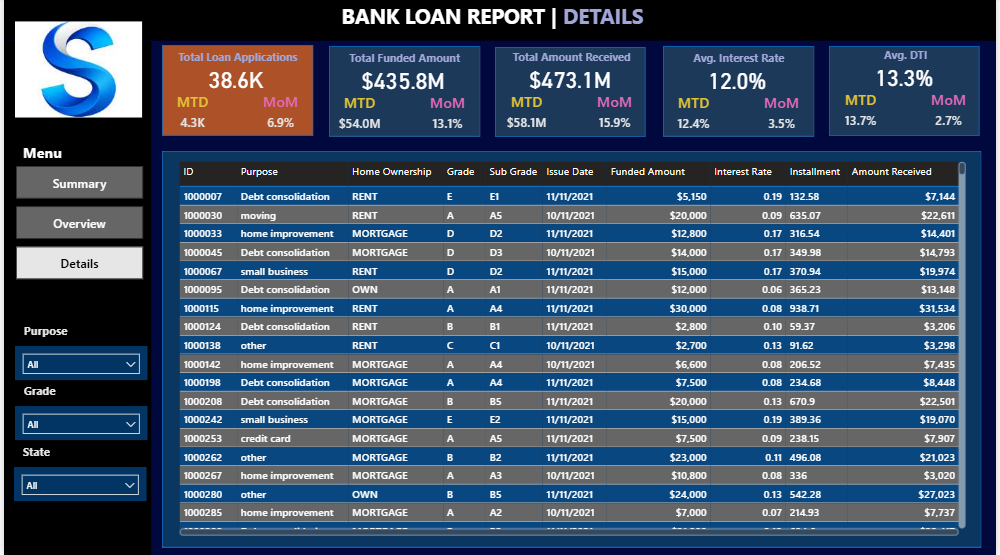

Layout of this report page (visuals, bound fields, positions):
{"tool":"powerbi","page":{"name":"Details","canvas":[1280,720],"ordinal":2},"visuals":[{"type":"shape","box":[204.1,197,1057.3,511.7],"z":0},{"type":"shape","box":[0,55.6,190,664.9],"z":1000},{"type":"shape","box":[0,0,1280,55.4],"z":2000},{"type":"textbox","box":[397.6,0,465.6,55.6],"z":3000},{"type":"shape","box":[203.4,60.9,195.4,116.9],"z":3000,"group":"g1"},{"type":"shape","box":[1063.9,61.8,194.2,116.2],"z":3000,"group":"g5"},{"type":"shape","box":[418.5,62.4,195.4,116.9],"z":3000,"group":"g2"},{"type":"shape","box":[850.1,62.4,195.4,116.9],"z":3000,"group":"g4"},{"type":"shape","box":[633.8,63.5,194.2,116.2],"z":3000,"group":"g3"},{"type":"group","id":"g1","title":"Group 1","box":[199.8,60.9,198.4,119.1],"z":4000},{"type":"group","id":"g2","title":"Group 1","box":[414.9,62.4,199.8,119.1],"z":5000},{"type":"card","fields":{"Values":["financial_loan.Avg DTI"]},"box":[1061.6,74.7,198.4,53.9],"z":5000,"group":"g5"},{"type":"card","fields":{"Values":["financial_loan.Total Loan Applications"]},"box":[199.8,77.5,198.4,53.9],"z":5000,"group":"g1"},{"type":"card","fields":{"Values":["financial_loan.Total Amount Received"]},"box":[631.4,77.5,198.4,53.9],"z":5000,"group":"g3"},{"type":"card","fields":{"Values":["financial_loan.Total Funded Amount"]},"box":[414.9,79,198.4,53.9],"z":5000,"group":"g2"},{"type":"card","fields":{"Values":["financial_loan.Avg Interest Rate"]},"box":[846.5,79,198.4,53.9],"z":5000,"group":"g4"},{"type":"textbox","box":[1065.2,58.1,195.4,33.5],"z":6000,"group":"g5"},{"type":"textbox","box":[203.4,60.9,195.4,33.5],"z":6000,"group":"g1"},{"type":"group","id":"g3","title":"Group 1","box":[631.4,60.9,198.4,119.1],"z":6000},{"type":"textbox","box":[635,60.9,195.4,33.5],"z":6000,"group":"g3"},{"type":"textbox","box":[418.5,62.4,195.4,33.5],"z":6000,"group":"g2"},{"type":"textbox","box":[850.1,62.4,195.4,33.5],"z":6000,"group":"g4"},{"type":"group","id":"g4","title":"Group 1","box":[846.5,62.4,199.8,119.1],"z":7000},{"type":"card","title":"MTD","fields":{"Values":["financial_loan.MTD Avg DTI"]},"box":[1065.9,117.2,79.4,59.5],"z":7000,"group":"g5"},{"type":"card","title":"MTD","fields":{"Values":["financial_loan.MTD Total Loan Applications"]},"box":[204.1,120,79.4,59.5],"z":7000,"group":"g1"},{"type":"card","title":"MTD","fields":{"Values":["financial_loan.MTD Total Amount Received"]},"box":[635.7,120,79.4,59.5],"z":7000,"group":"g3"},{"type":"card","title":"MTD","fields":{"Values":["financial_loan.MTD Total Funded Amount"]},"box":[419.2,121.5,79.4,59.5],"z":7000,"group":"g2"},{"type":"card","title":"MTD","fields":{"Values":["financial_loan.MTD Avg Interest Rate"]},"box":[850.8,121.5,79.4,59.5],"z":7000,"group":"g4"},{"type":"group","id":"g5","title":"Group 1","box":[1061.6,58.1,198.4,120.5],"z":8000},{"type":"card","title":"MoM","fields":{"Values":["financial_loan.MoM Avg DTI"]},"box":[1179.2,117.2,79.4,59.5],"z":8000,"group":"g5"},{"type":"card","title":"MoM","fields":{"Values":["financial_loan.MoM Loan Applications"]},"box":[317.4,120,79.4,59.5],"z":8000,"group":"g1"},{"type":"card","title":"MoM","fields":{"Values":["financial_loan.MoM Amount Received"]},"box":[749,120,79.4,59.5],"z":8000,"group":"g3"},{"type":"card","title":"MoM","fields":{"Values":["financial_loan.MoM Total Funded Amount"]},"box":[532.5,121.5,79.4,59.5],"z":8000,"group":"g2"},{"type":"card","title":"MoM","fields":{"Values":["financial_loan.MoM Avg Interest Rate"]},"box":[964.1,121.5,79.4,59.5],"z":8000,"group":"g4"},{"type":"group","id":"g6","title":"Group 3","box":[12.5,569.8,171.5,78.3],"z":9000},{"type":"group","id":"g7","title":"Group 3","box":[14.2,413.9,171.5,78],"z":10000},{"type":"group","id":"g8","title":"Group 3","box":[14.2,491.8,171.5,78],"z":11000},{"type":"tableEx","fields":{"Values":["financial_loan.id","financial_loan.purpose","financial_loan.home_ownership","financial_loan.grade","financial_loan.sub_grade","financial_loan.issue_date","financial_loan.Total Funded Amount","Sum(financial_loan.int_rate)","financial_loan.installment","financial_loan.Total Amount Received"]},"box":[221.1,206.9,1024.7,491.8],"z":12501},{"type":"pageNavigator","box":[15.6,216.9,164.4,148.8],"z":12502},{"type":"textbox","box":[19.8,181.4,116.2,35.4],"z":12504},{"type":"image","box":[14.2,22.7,164.4,137.5],"z":12505},{"type":"slicer","title":"State","fields":{"Values":["financial_loan.purpose"]},"box":[14.2,448.3,171.5,43.9],"z":15000,"group":"g7"},{"type":"slicer","title":"State","fields":{"Values":["financial_loan.grade"]},"box":[14.2,526.2,171.5,43.9],"z":15000,"group":"g8"},{"type":"slicer","title":"State","fields":{"Values":["financial_loan.address_state"]},"box":[12.5,604.2,171.5,43.9],"z":15000,"group":"g6"},{"type":"textbox","box":[20.1,413.9,116.2,32.6],"z":16500,"group":"g7"},{"type":"textbox","box":[20.1,491.8,116.2,32.6],"z":16500,"group":"g8"},{"type":"textbox","box":[18.4,569.8,116.2,32.6],"z":16500,"group":"g6"}]}

Visuals, with their boxes in screenshot pixels (x1, y1, x2, y2), scaled from the page's 1280x720 canvas onto the 1000x555 screenshot:
shape: Rect(159, 152, 985, 546)
shape: Rect(0, 43, 148, 554)
shape: Rect(0, 0, 999, 43)
textbox: Rect(311, 0, 674, 43)
shape: Rect(159, 47, 312, 137)
shape: Rect(831, 48, 983, 137)
shape: Rect(327, 48, 480, 138)
shape: Rect(664, 48, 817, 138)
shape: Rect(495, 49, 647, 139)
"Group 1" group: Rect(156, 47, 311, 139)
"Group 1" group: Rect(324, 48, 480, 140)
card - financial_loan.Avg DTI: Rect(829, 58, 984, 99)
card - financial_loan.Total Loan Applications: Rect(156, 60, 311, 101)
card - financial_loan.Total Amount Received: Rect(493, 60, 648, 101)
card - financial_loan.Total Funded Amount: Rect(324, 61, 479, 102)
card - financial_loan.Avg Interest Rate: Rect(661, 61, 816, 102)
textbox: Rect(832, 45, 985, 71)
textbox: Rect(159, 47, 312, 73)
"Group 1" group: Rect(493, 47, 648, 139)
textbox: Rect(496, 47, 649, 73)
textbox: Rect(327, 48, 480, 74)
textbox: Rect(664, 48, 817, 74)
"Group 1" group: Rect(661, 48, 817, 140)
"MTD" card: Rect(833, 90, 895, 136)
"MTD" card: Rect(159, 92, 221, 138)
"MTD" card: Rect(497, 92, 559, 138)
"MTD" card: Rect(328, 94, 390, 140)
"MTD" card: Rect(665, 94, 727, 140)
"Group 1" group: Rect(829, 45, 984, 138)
"MoM" card: Rect(921, 90, 983, 136)
"MoM" card: Rect(248, 92, 310, 138)
"MoM" card: Rect(585, 92, 647, 138)
"MoM" card: Rect(416, 94, 478, 140)
"MoM" card: Rect(753, 94, 815, 140)
"Group 3" group: Rect(10, 439, 144, 500)
"Group 3" group: Rect(11, 319, 145, 379)
"Group 3" group: Rect(11, 379, 145, 439)
tableEx - financial_loan.id x financial_loan.purpose: Rect(173, 159, 973, 539)
pageNavigator: Rect(12, 167, 141, 282)
textbox: Rect(15, 140, 106, 167)
image: Rect(11, 17, 140, 123)
"State" slicer: Rect(11, 346, 145, 379)
"State" slicer: Rect(11, 406, 145, 439)
"State" slicer: Rect(10, 466, 144, 500)
textbox: Rect(16, 319, 106, 344)
textbox: Rect(16, 379, 106, 404)
textbox: Rect(14, 439, 105, 464)
